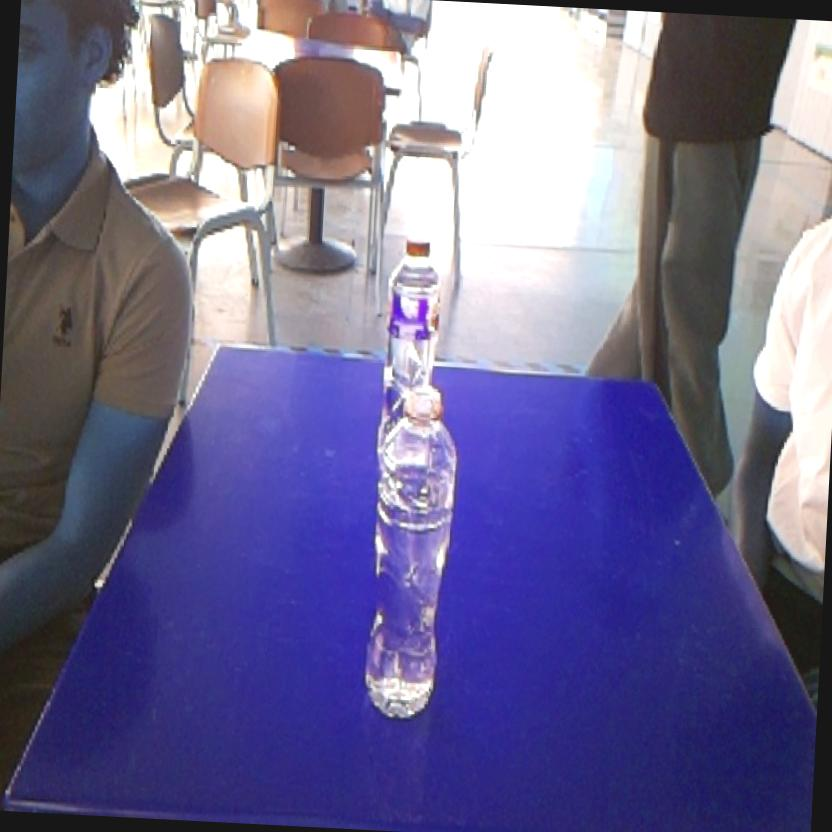good: (376, 229, 454, 374)
no_cap: (354, 376, 468, 725)
